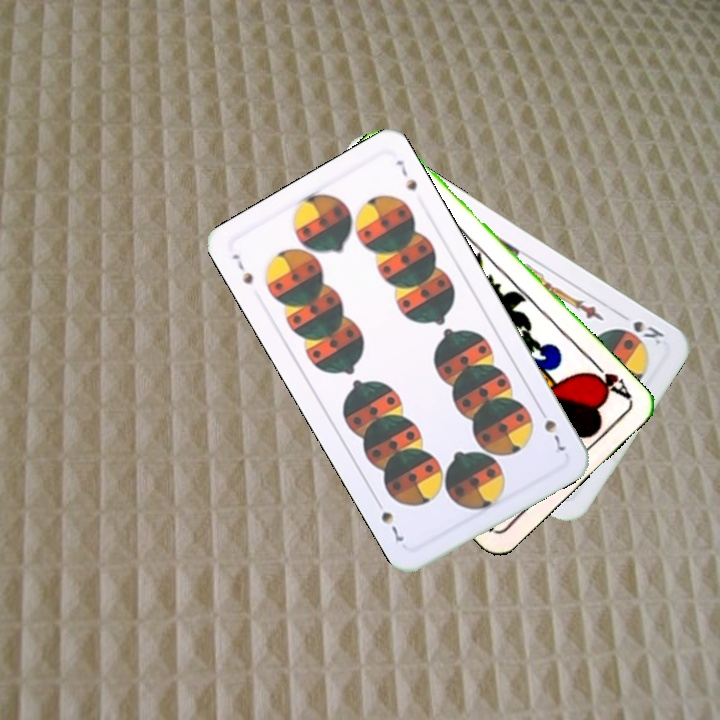HA: (583, 355, 634, 402)
S7: (534, 402, 568, 454), (227, 250, 256, 287)
SK: (629, 316, 667, 348)
